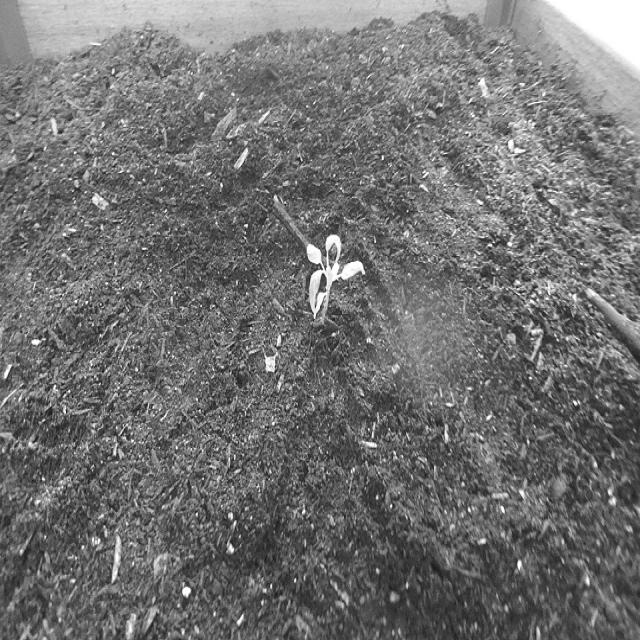Healthy: (296, 220, 374, 337)
